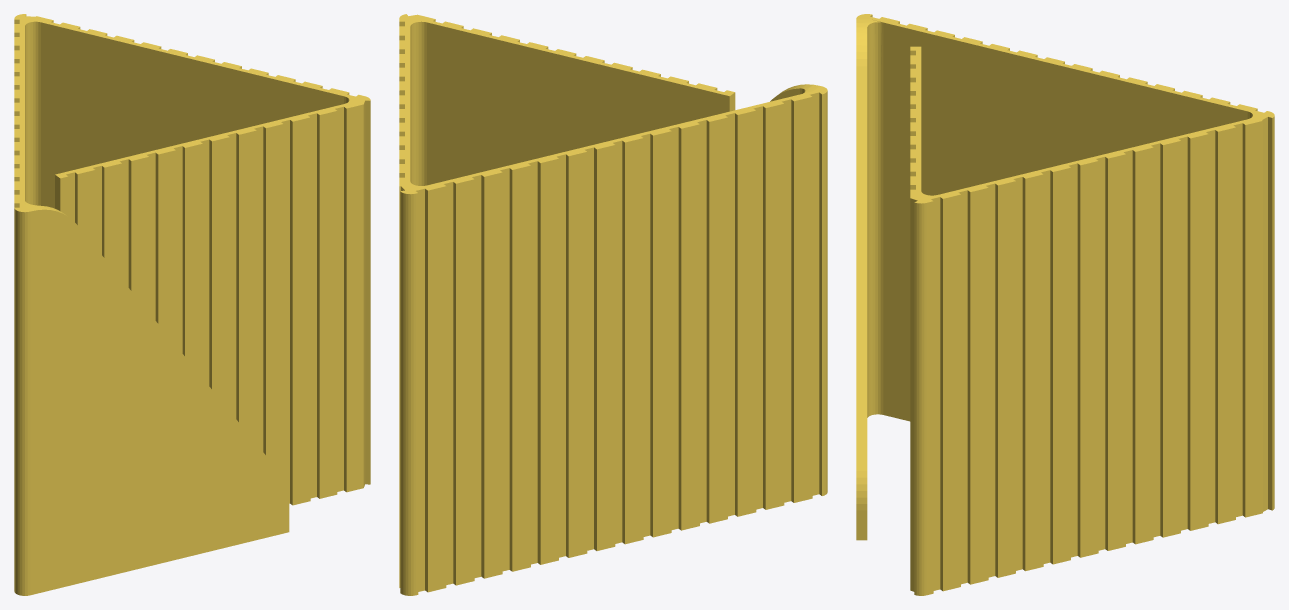
3 views of the same model, side by side, from view 1: azimuth 30°, elevation 25°; view 2: azimuth 150°, elevation 25°; view 3: azimuth 270°, elevation 25° (orthographic). The views are drawn at different scales.
Visible parts, largest first — view 1: Triangular_pencil_cup.stl_fil1; view 2: Triangular_pencil_cup.stl_fil1; view 3: Triangular_pencil_cup.stl_fil1.
Part boxes in pixels (x1,y1,x2,y2): Triangular_pencil_cup.stl_fil1: (14,14,370,595); Triangular_pencil_cup.stl_fil1: (399,14,827,595); Triangular_pencil_cup.stl_fil1: (856,14,1274,595).
Bounding box in the file's own units: 0.0828 × 0.08 × 0.0773.
